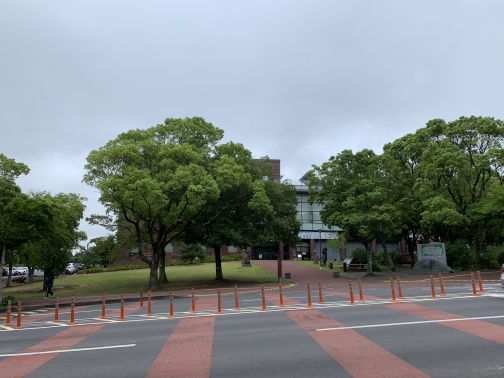Museum: (286, 179, 354, 265)
